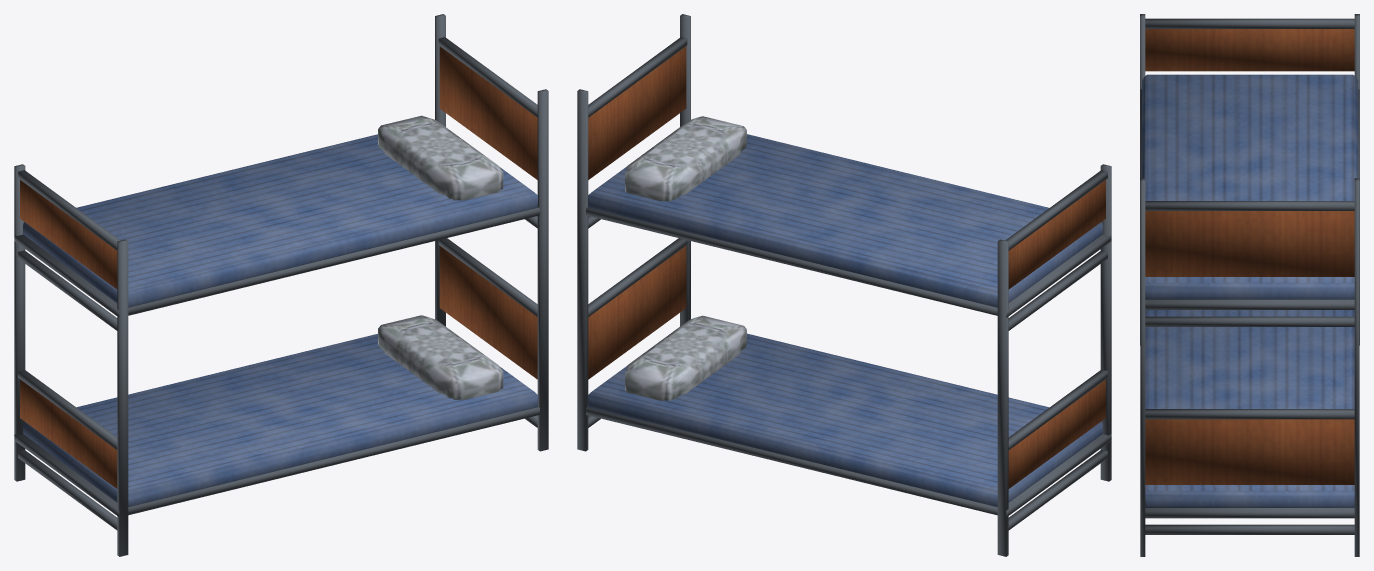
The model's file is the bed is 2 tiered.fbx.
3 views of the same model, side by side, from view 1: azimuth 30°, elevation 25°; view 2: azimuth 150°, elevation 25°; view 3: azimuth 270°, elevation 25° (orthographic). The views are drawn at different scales.
Visible parts, largest first — view 1: подушка.2; view 2: подушка.2; view 3: подушка.2.
Boxes of the visible parts, bbox=[...] form: подушка.2: bbox=[14, 14, 548, 556]; подушка.2: bbox=[577, 14, 1111, 556]; подушка.2: bbox=[1140, 14, 1359, 556].
Size of the model in its own units: 2005 by 1613 by 852.
1 material, 1 textured.
